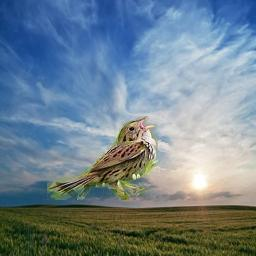Sparrow: (48, 116, 159, 200)
